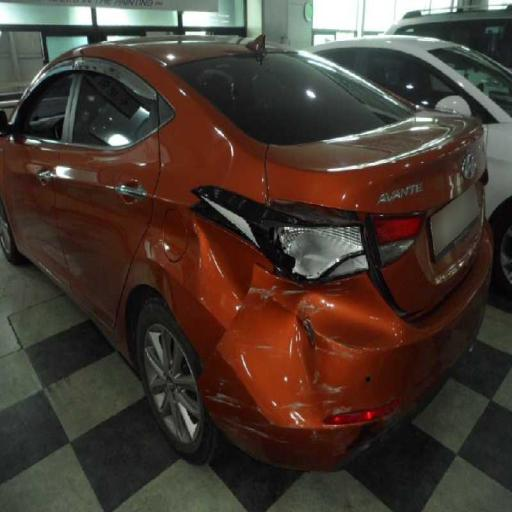dent: (151, 133, 397, 475)
